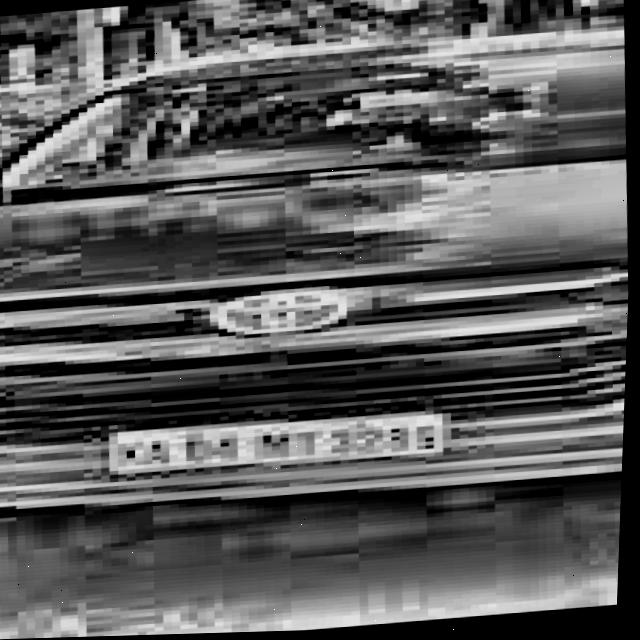light_vehicle: (0, 25, 639, 534)
